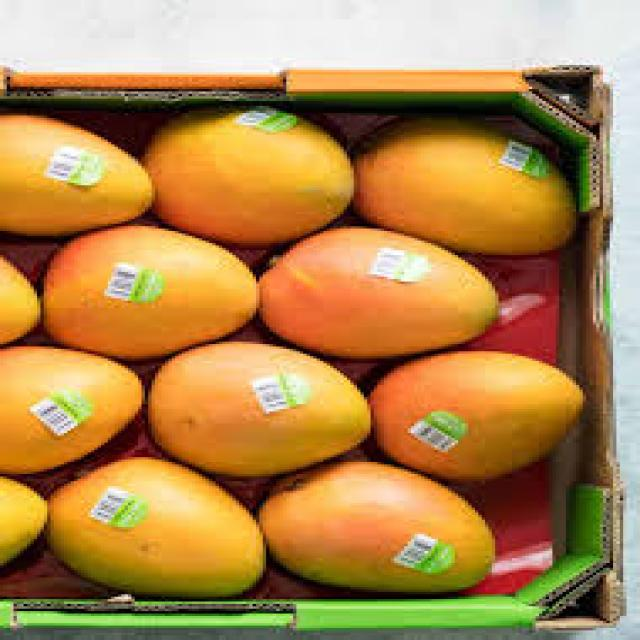mango: (256, 224, 502, 366)
